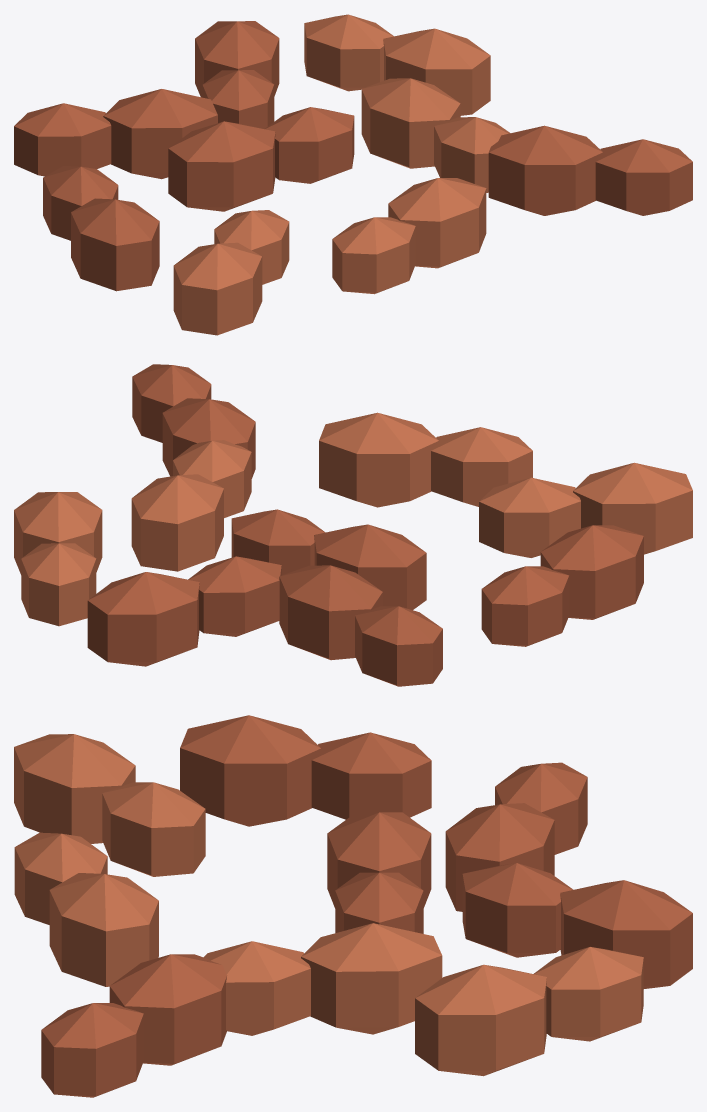
The model's file is peanut-cooked.glb.
The picture shows the model from 3 angles, top to bottom: view 1: azimuth 30°, elevation 25°; view 2: azimuth 150°, elevation 25°; view 3: azimuth 270°, elevation 25°; orthographic projection. The views are drawn at different scales.
Visible parts, largest first — view 1: peanut-cooked; view 2: peanut-cooked; view 3: peanut-cooked.
Part boxes in pixels (x1=…): peanut-cooked: x1=14, y1=14, x2=692, y2=335; peanut-cooked: x1=14, y1=364, x2=692, y2=686; peanut-cooked: x1=14, y1=715, x2=692, y2=1097.
Bounding box in the file's own units: 0.1996 × 0.032 × 0.1766.
1 material, 1 textured.
